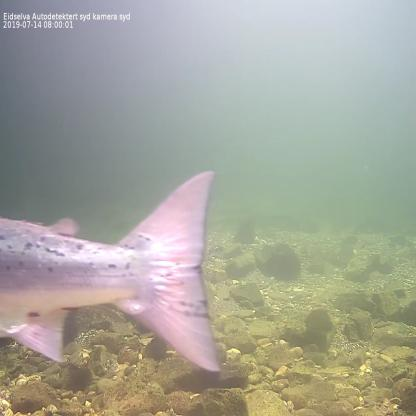salmon: (0, 168, 225, 374)
